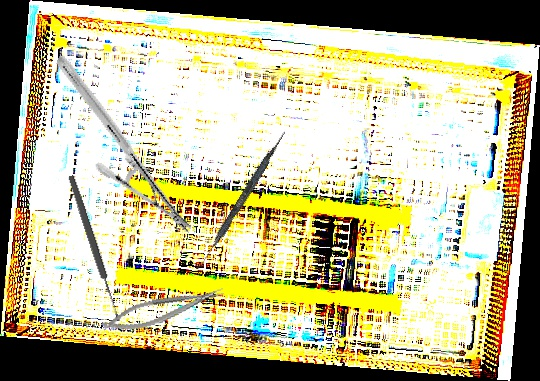Needle Holder: (14, 54, 234, 235), (99, 282, 228, 338)
Spatula Surgical: (195, 128, 288, 273)
Surgical Spoon: (66, 174, 123, 323)
